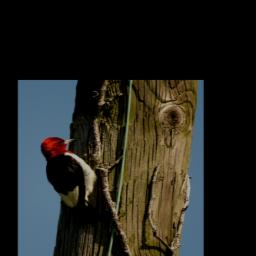Woodpecker: (40, 136, 112, 229)
